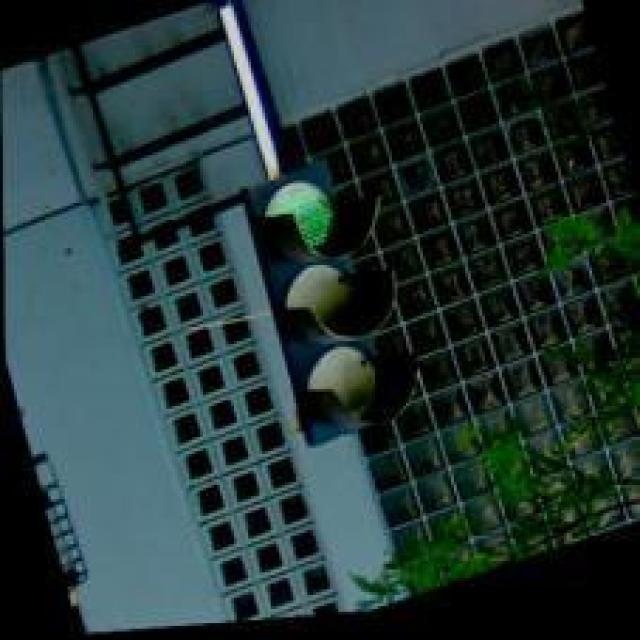Lampu Hijau: (246, 154, 406, 456)
